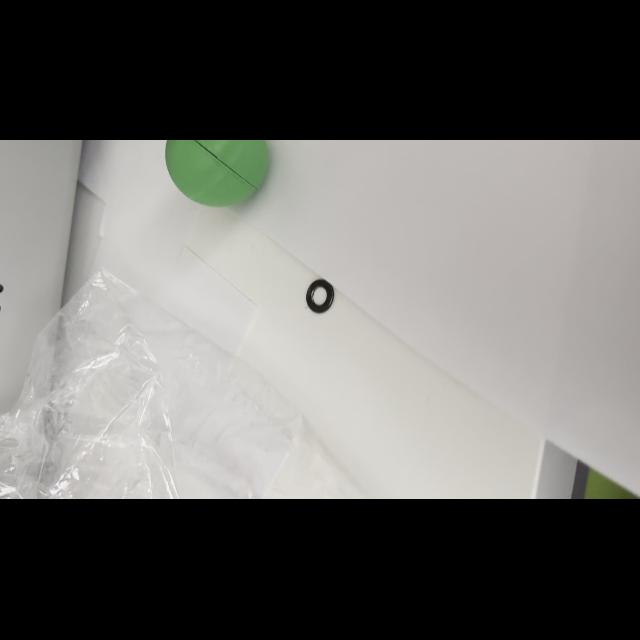objects: (162, 140, 276, 210)
